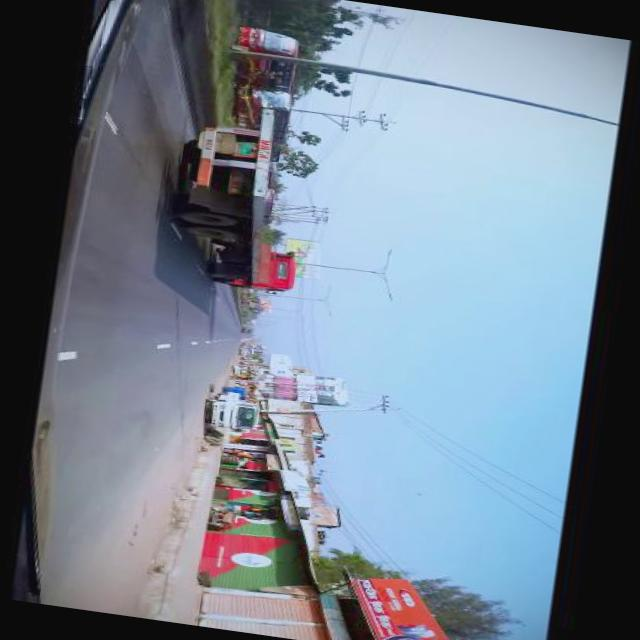bus: (230, 86, 294, 164), (232, 26, 302, 94)
car: (232, 366, 243, 378)
truck: (168, 100, 322, 298), (206, 390, 263, 434)
